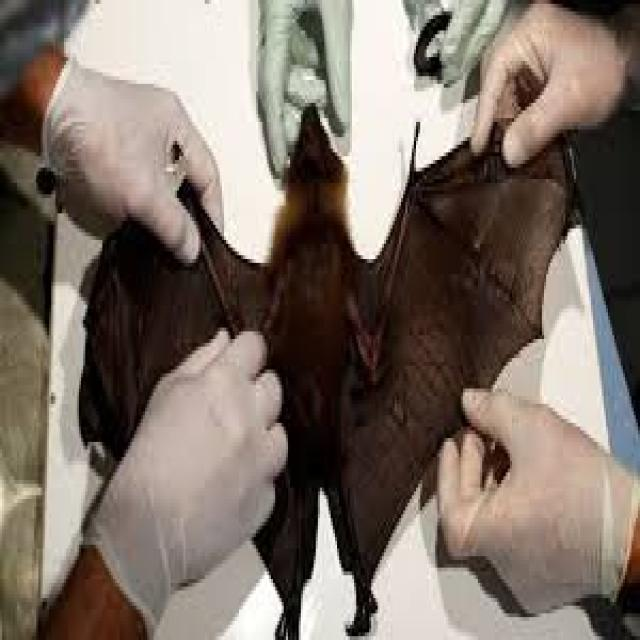Bat: (83, 108, 580, 613)
